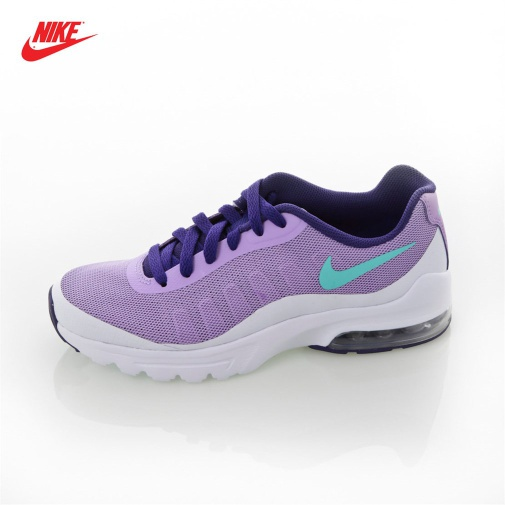nike: (317, 242, 418, 300)
